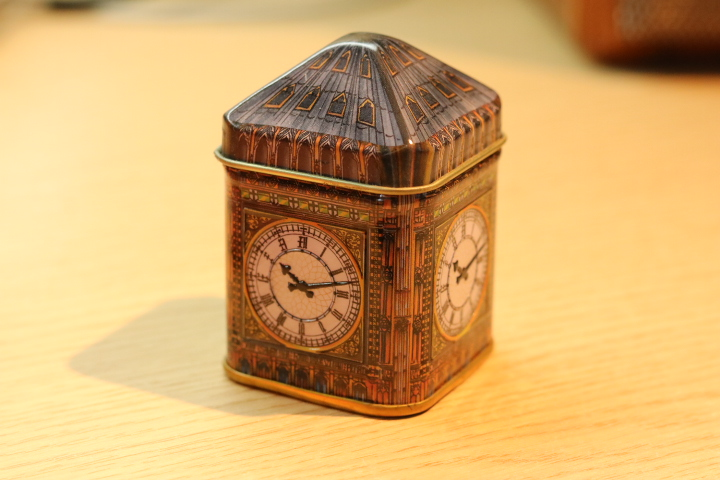Big Ben: (199, 25, 520, 427)
